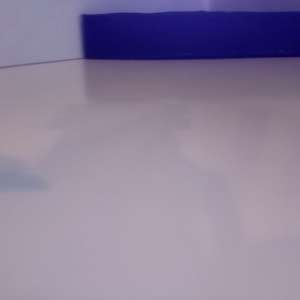zone: (45, 1, 300, 52)
